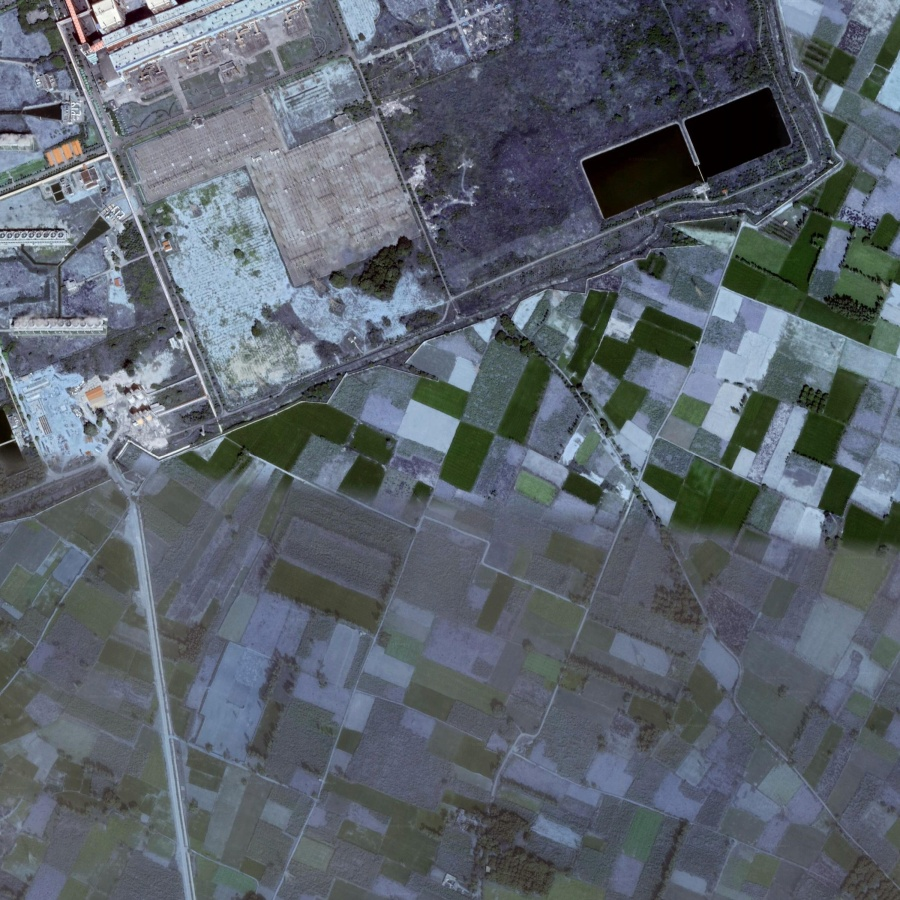PowerPlant: (561, 67, 802, 253)
